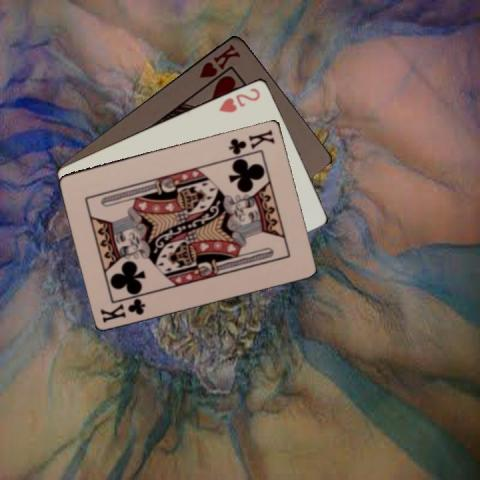2h: (216, 84, 262, 114)
Kc: (226, 126, 277, 155), (97, 295, 147, 324)
Kh: (196, 41, 243, 79)
